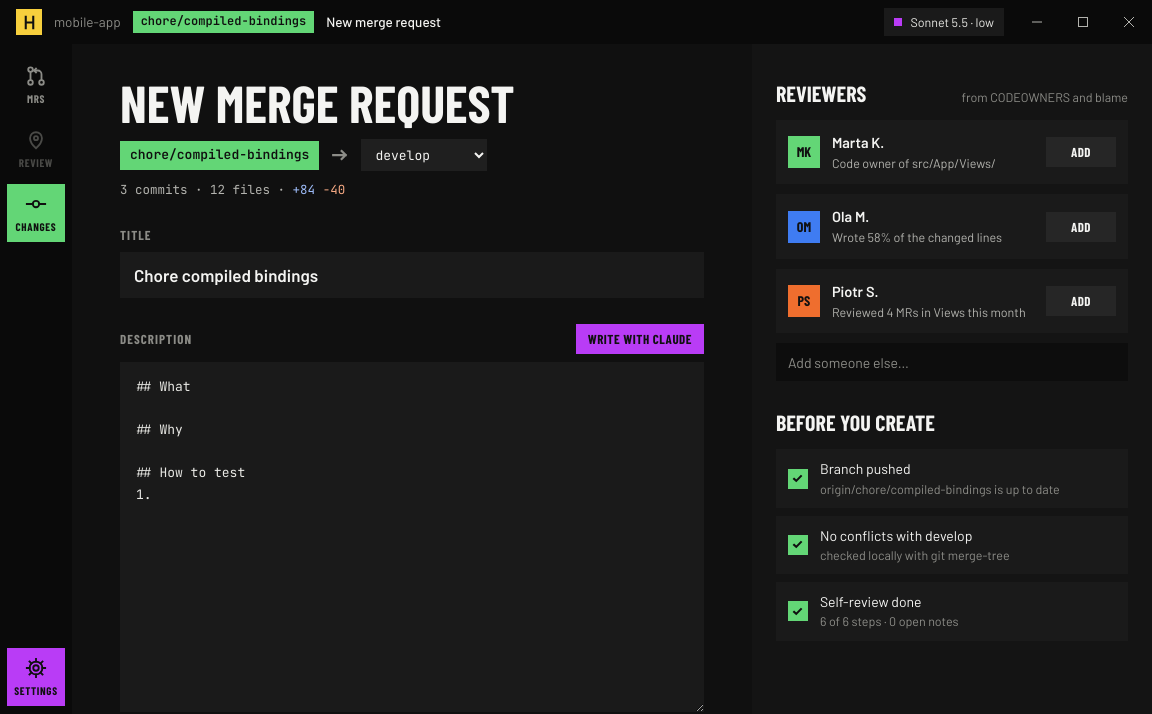
Test: S-11 reviewers (F-27.3) › F-27.3 searching for somebody who is already suggested toggles that row, not a second one
This screenshot has width=1152, height=714.
expect the text "Marta K." is shown: met, box [832,133,884,151]
Type "ola" into the field named "Add another reviewer" at (952,362), box [776,343,1128,381]
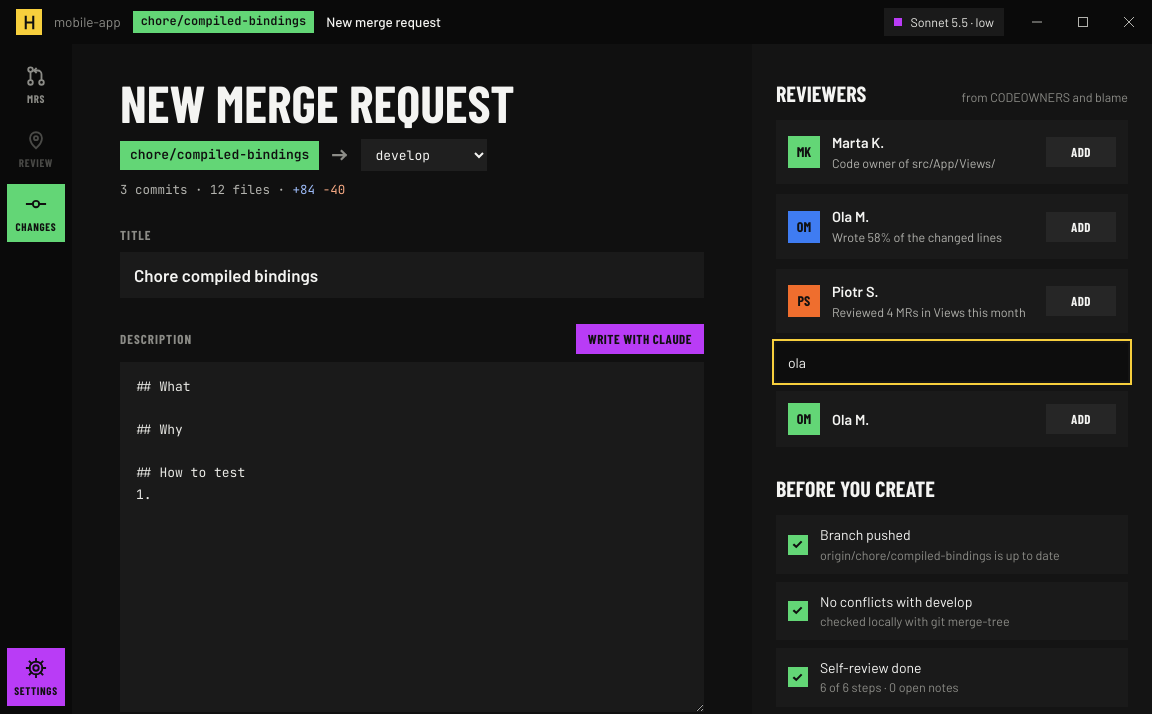
Click the button with aria-label "Add Ola M." at (1081,419), box [1046,404,1116,434]
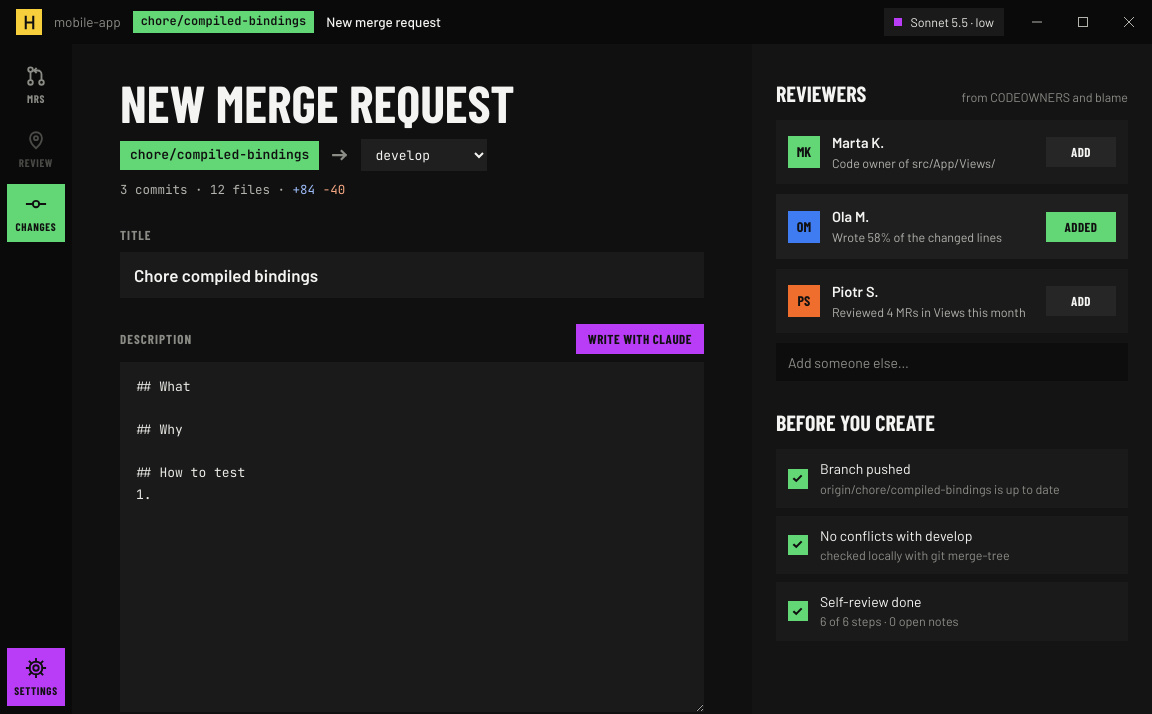
expect the number of buttons named "Remove Ola M." is 1: met, box [1046,212,1116,242]
